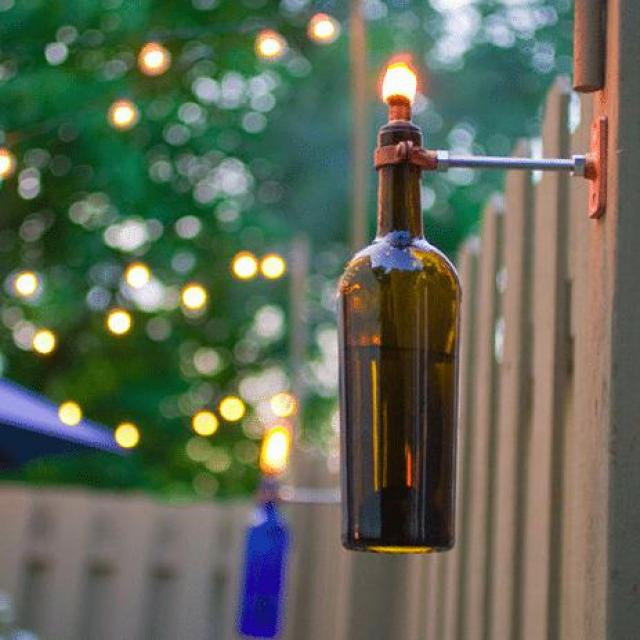non-organic waste: (338, 121, 468, 557)
